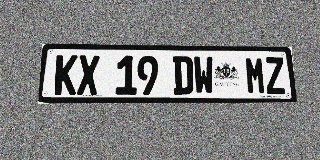1: (116, 55, 137, 95)
9: (137, 56, 158, 95)
D: (173, 56, 194, 95)
K: (54, 55, 78, 95)
M: (245, 57, 266, 94)
W: (193, 56, 214, 95)
X: (77, 55, 100, 95)
Z: (264, 57, 286, 94)
